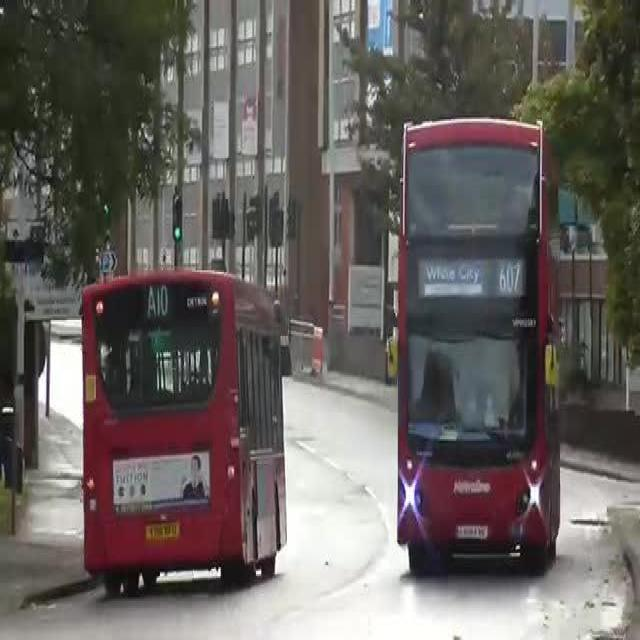motorcycle: (386, 116, 573, 576), (73, 272, 282, 590)
